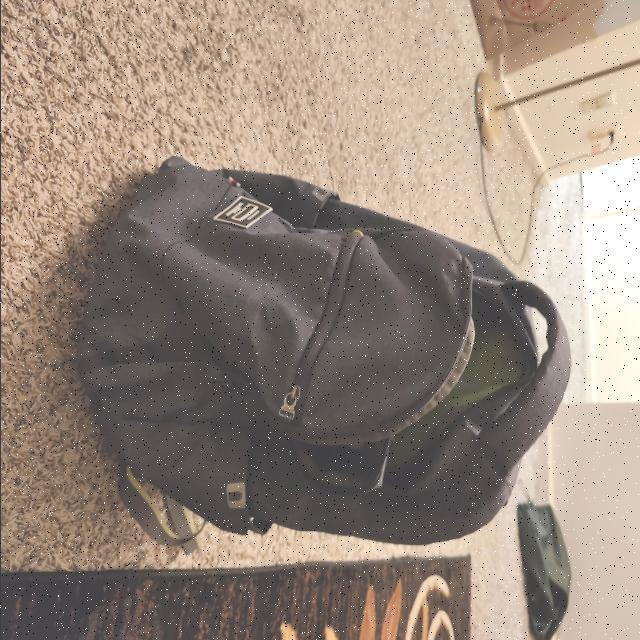bag: (102, 173, 562, 540)
